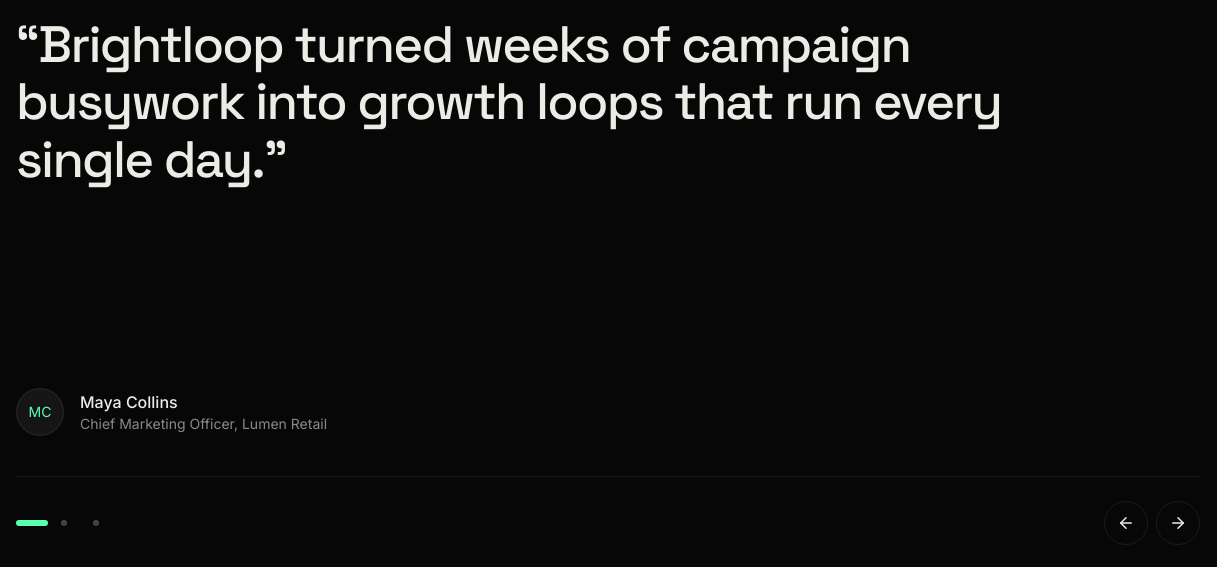
Testimonials › changes slide with the dots
Click the button named "Show testimonial 2": (64, 523) [48, 501, 80, 545]
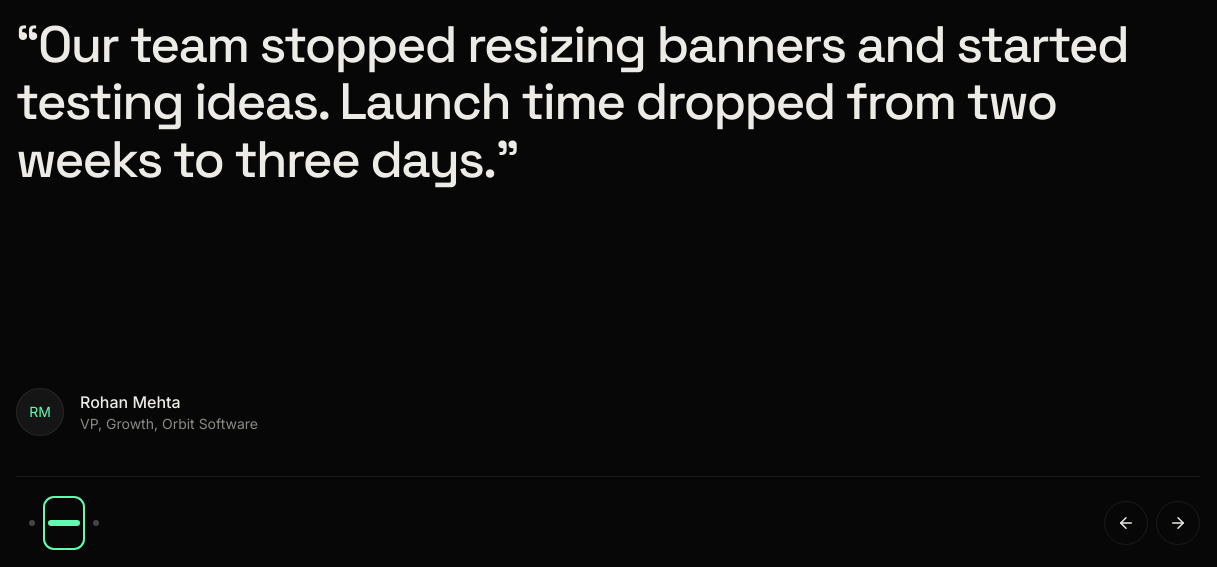
Expected: the element named "2 of 3" is shown
